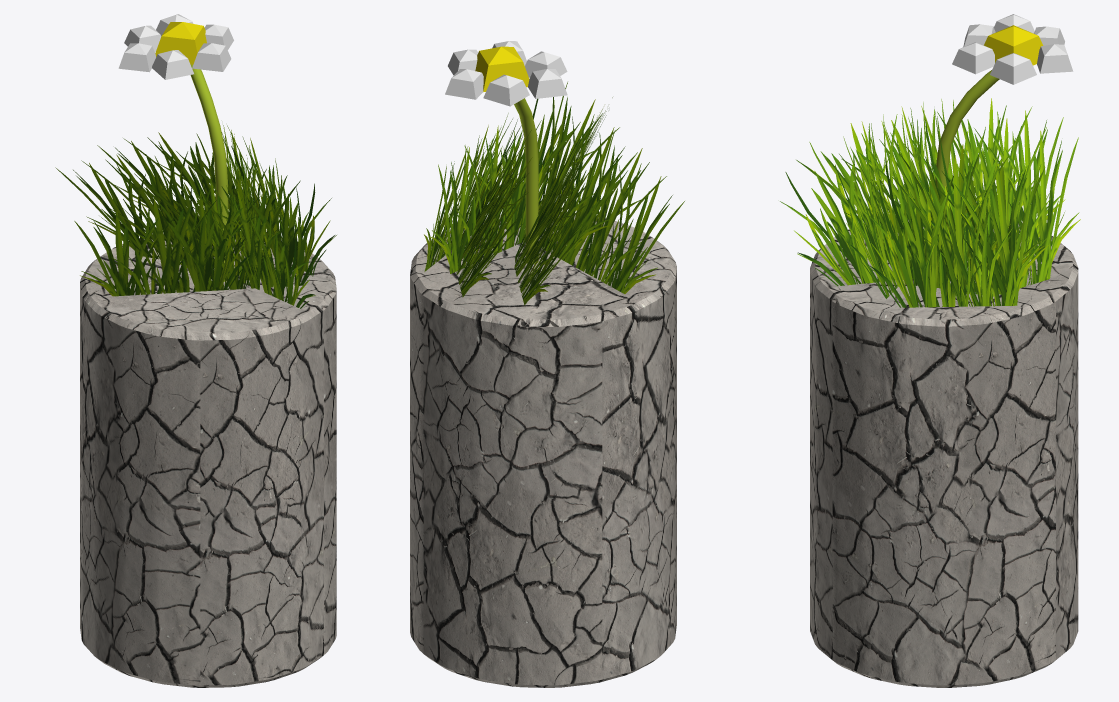
Rendered from pillar_earth.fbx.
3 renders of one model, left to right at view 1: azimuth 30°, elevation 25°; view 2: azimuth 150°, elevation 25°; view 3: azimuth 270°, elevation 25°, orthographic. The views are drawn at different scales.
Parts seen in each view (by area): view 1: polySurface5; view 2: polySurface5; view 3: polySurface5.
Part boxes in pixels (box(x1,y1,x2,y2)): polySurface5: box(55, 14, 336, 687); polySurface5: box(410, 41, 684, 687); polySurface5: box(780, 14, 1080, 687).
Bounding box in the file's own units: 0.2649 × 0.5246 × 0.28.
5 materials, 2 textured.
